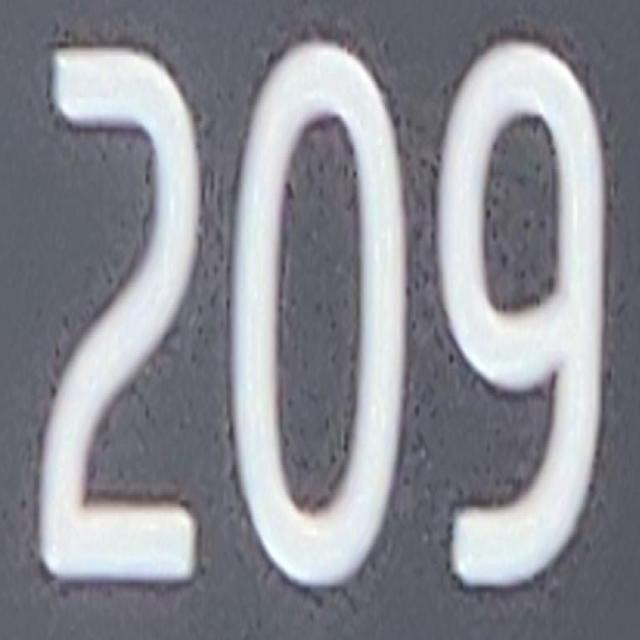character: (225, 29, 412, 598), (431, 32, 615, 600), (30, 35, 206, 591)
